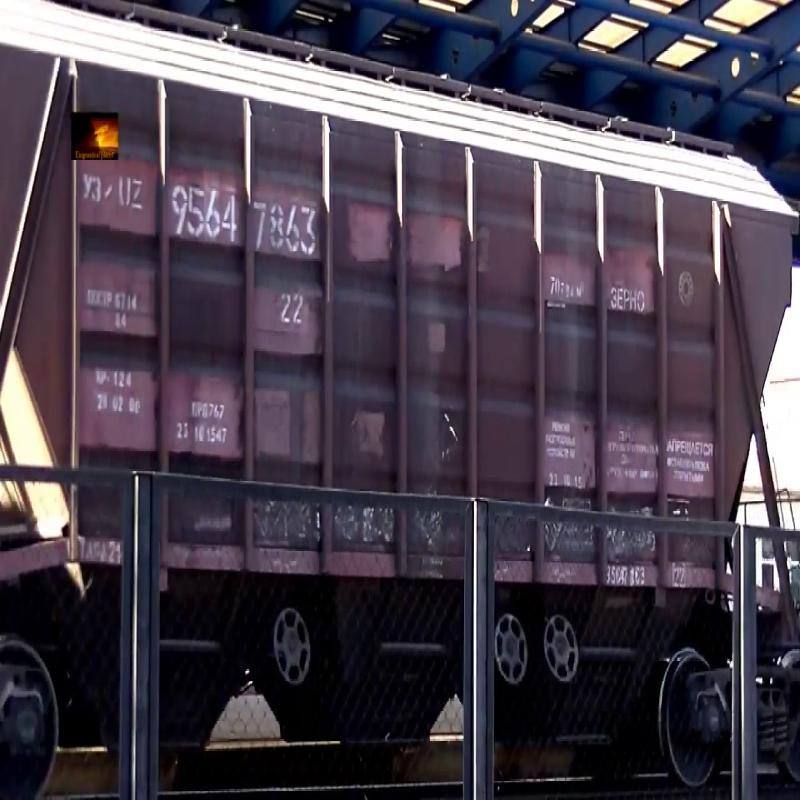train: (1, 4, 796, 784)
